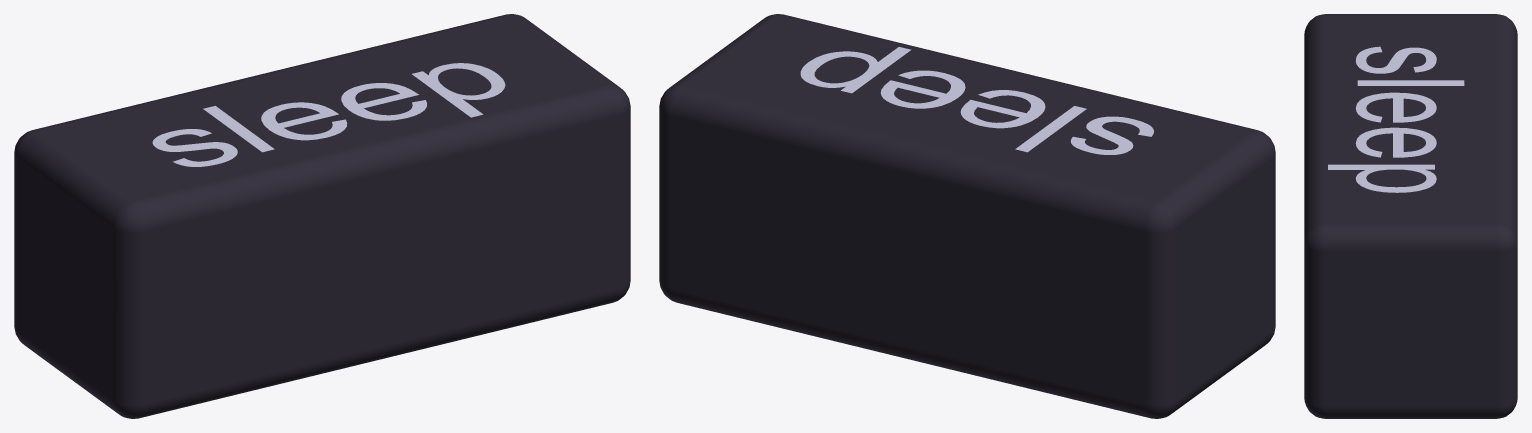
Rendered from sleep.glb.
The picture shows the model from 3 angles, left to right: view 1: azimuth 30°, elevation 25°; view 2: azimuth 150°, elevation 25°; view 3: azimuth 270°, elevation 25°; orthographic projection. The views are drawn at different scales.
Visible parts, largest first — view 1: Cut, Extrude; view 2: Cut, Extrude; view 3: Cut, Extrude.
Part boxes in pixels (x1,y1,x2,y2): Cut: [14, 14, 630, 418]; Extrude: [152, 63, 505, 166]; Cut: [659, 14, 1275, 418]; Extrude: [800, 47, 1153, 154]; Cut: [1304, 14, 1517, 418]; Extrude: [1328, 46, 1464, 192].
Bounding box in the file's own units: 5 × 2 × 2.
